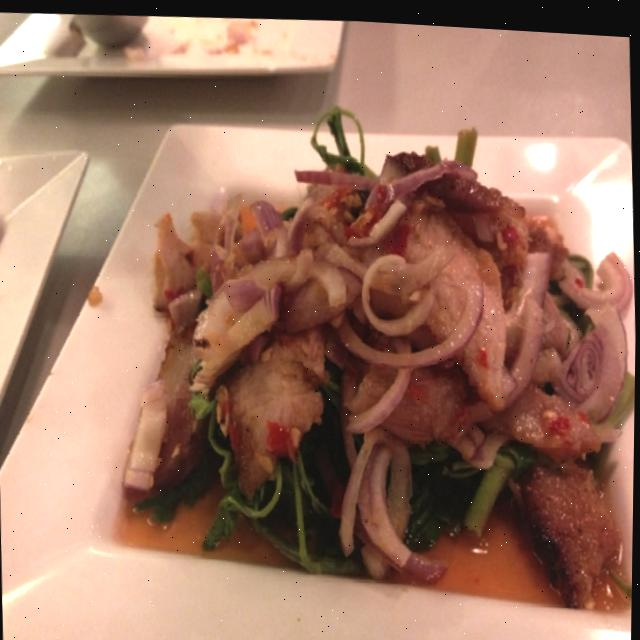猪肉菜式: (102, 53, 637, 626)
